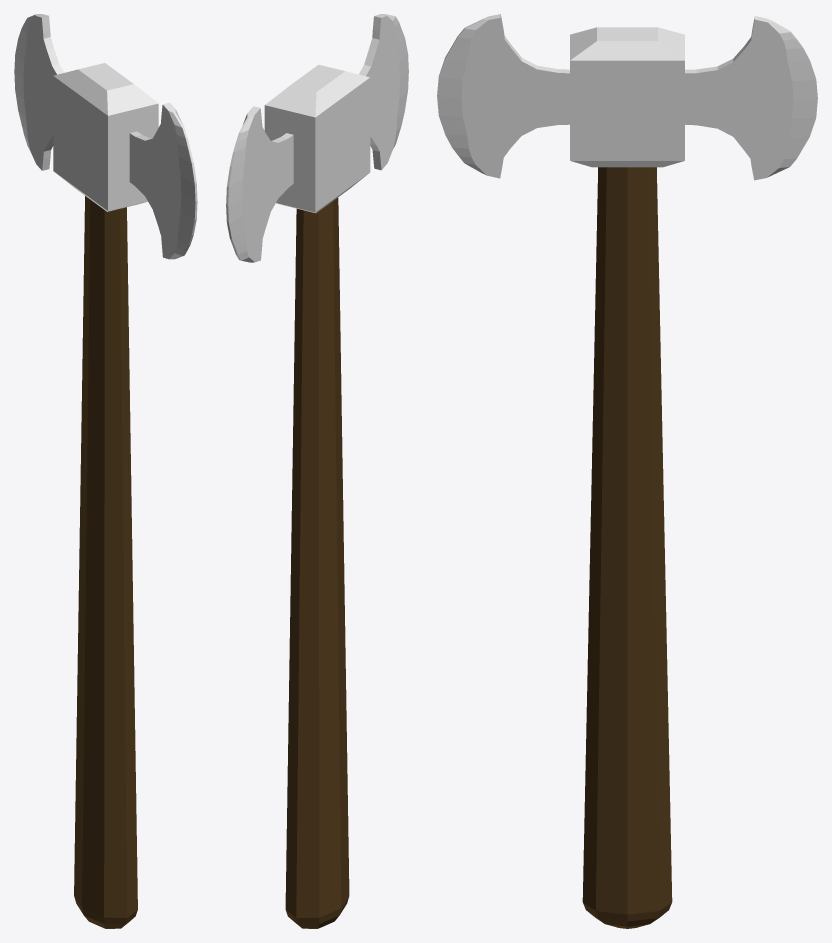
Rendered from hammer_doubleaxe.glb.
The picture shows the model from 3 angles, left to right: view 1: azimuth 30°, elevation 25°; view 2: azimuth 150°, elevation 25°; view 3: azimuth 270°, elevation 25°; orthographic projection. The views are drawn at different scales.
Visible parts, largest first — view 1: hammer_doubleaxe; view 2: hammer_doubleaxe; view 3: hammer_doubleaxe.
Part boxes in pixels (x1,y1,x2,y2): hammer_doubleaxe: [14, 14, 197, 928]; hammer_doubleaxe: [226, 14, 408, 928]; hammer_doubleaxe: [437, 14, 817, 928].
Bounding box in the file's own units: 88.84 × 1447 × 549.
